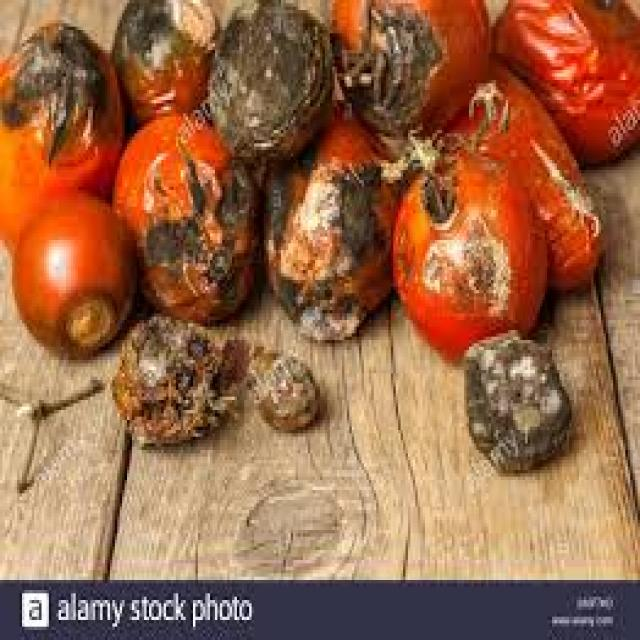organic waste: (449, 53, 604, 290), (259, 93, 401, 337), (108, 110, 262, 317), (0, 20, 120, 253), (488, 0, 638, 160), (327, 0, 488, 143), (7, 177, 127, 353), (208, 0, 330, 160), (110, 310, 242, 443), (462, 326, 566, 466), (110, 0, 220, 117), (0, 376, 105, 486), (242, 340, 315, 423)
